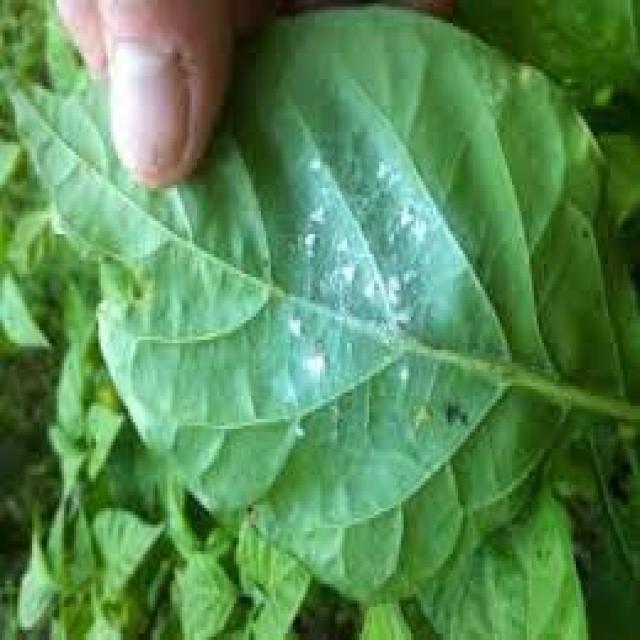Pestalotiopsis: (222, 122, 464, 480)
